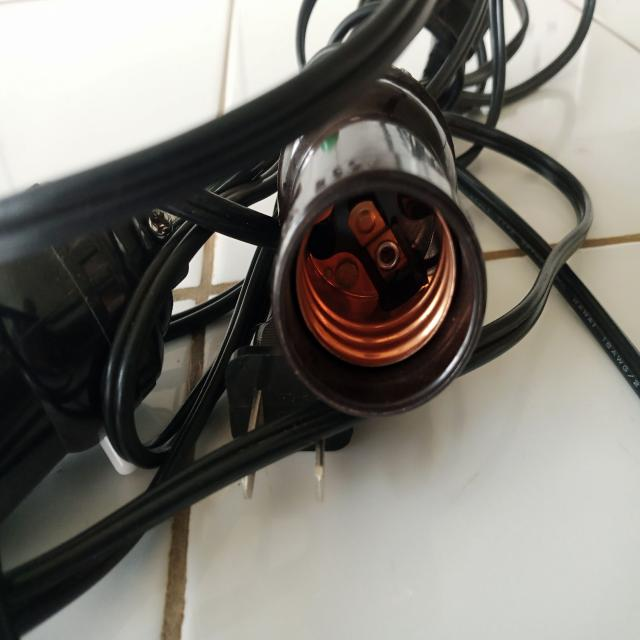Bulb Socket: (260, 98, 500, 432)
